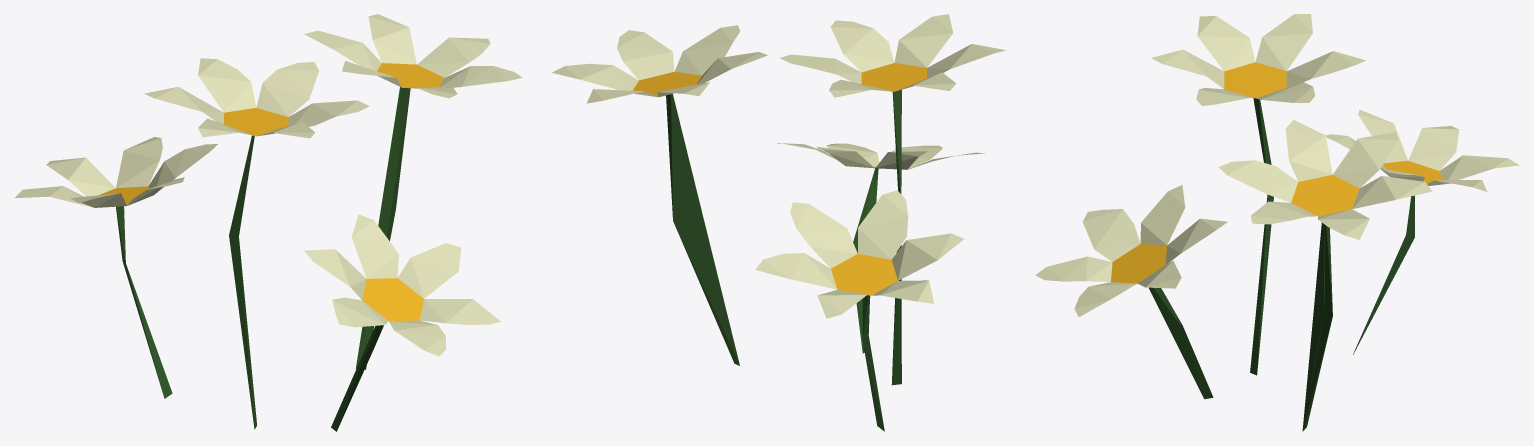
File: enchantedforest_flower_3.fbx
3 renders of one model, left to right at view 1: azimuth 30°, elevation 25°; view 2: azimuth 150°, elevation 25°; view 3: azimuth 270°, elevation 25°, orthographic. The views are drawn at different scales.
Visible parts, largest first — view 1: Cylinder.006; view 2: Cylinder.006; view 3: Cylinder.006.
Part boxes in pixels (<box>): Cylinder.006: <box>14,14,522,431</box>; Cylinder.006: <box>552,14,1005,431</box>; Cylinder.006: <box>1035,14,1519,431</box>.
Bounding box in the file's own units: 0.6738 × 0.5031 × 0.6856.
